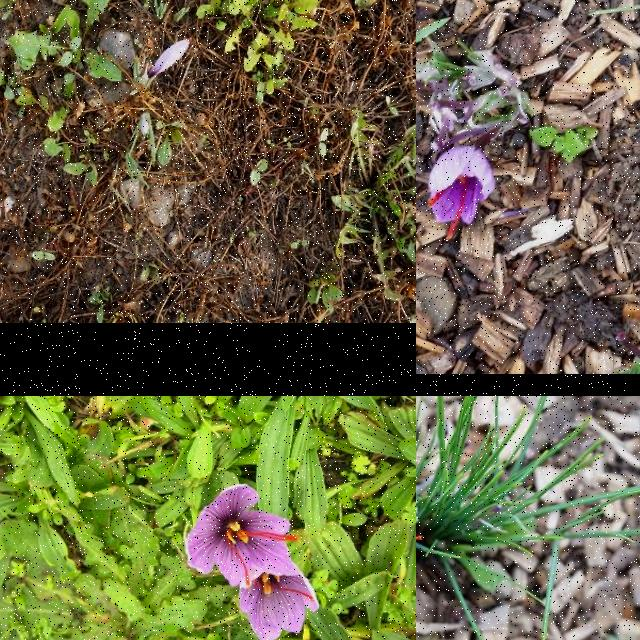flower: (185, 483, 302, 589), (428, 146, 494, 240), (236, 573, 320, 640), (147, 40, 189, 78)
